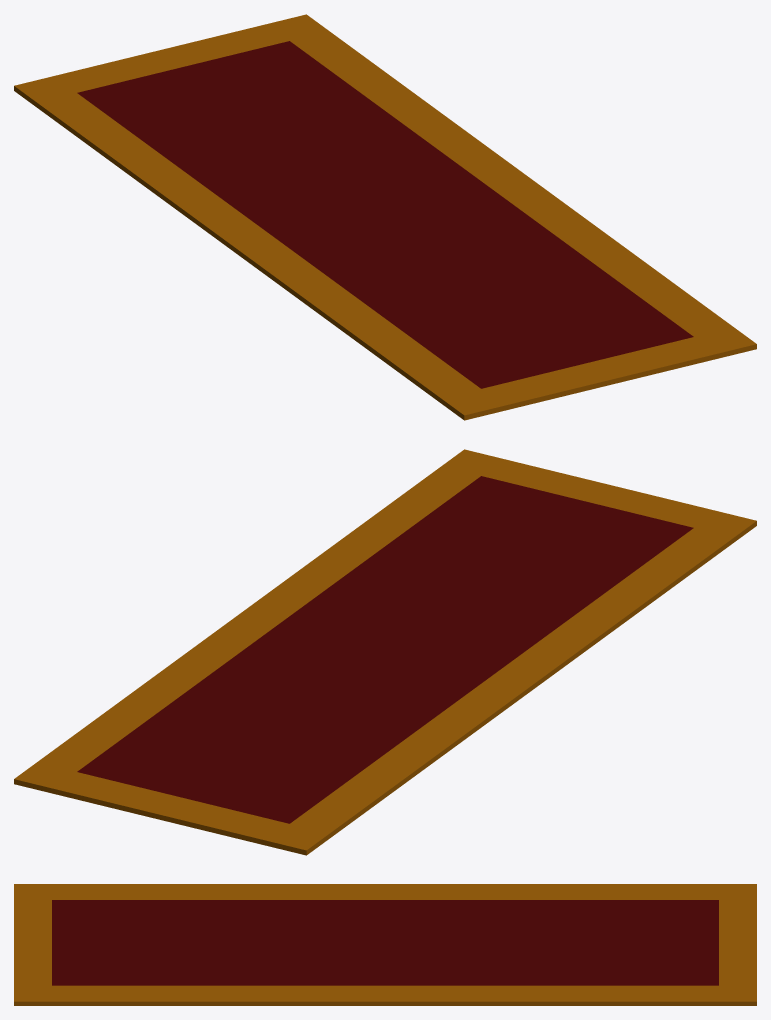
Rendered from Large Carpet.FBX.
3 renders of one model, top to bottom at view 1: azimuth 30°, elevation 25°; view 2: azimuth 150°, elevation 25°; view 3: azimuth 270°, elevation 25°, orthographic. The views are drawn at different scales.
Visible parts, largest first — view 1: Large Carpet; view 2: Large Carpet; view 3: Large Carpet.
Boxes of the visible parts, x1,y1,x2,y2 form: Large Carpet: (14,14,756,420); Large Carpet: (14,449,756,855); Large Carpet: (14,884,756,1005).
Bounding box in the file's own units: 3 × 0.05 × 8.
